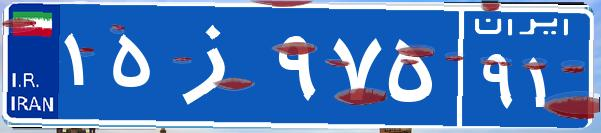1: (57, 26, 110, 107), (525, 38, 570, 115)
5: (385, 28, 445, 110), (110, 28, 158, 105)
7: (330, 28, 385, 110)
9: (273, 28, 330, 110), (475, 38, 525, 113)
ز: (158, 15, 273, 115)
